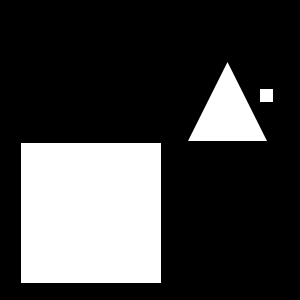circle: (21, 143, 161, 283), (260, 89, 273, 102)
triangle: (188, 62, 267, 141)
